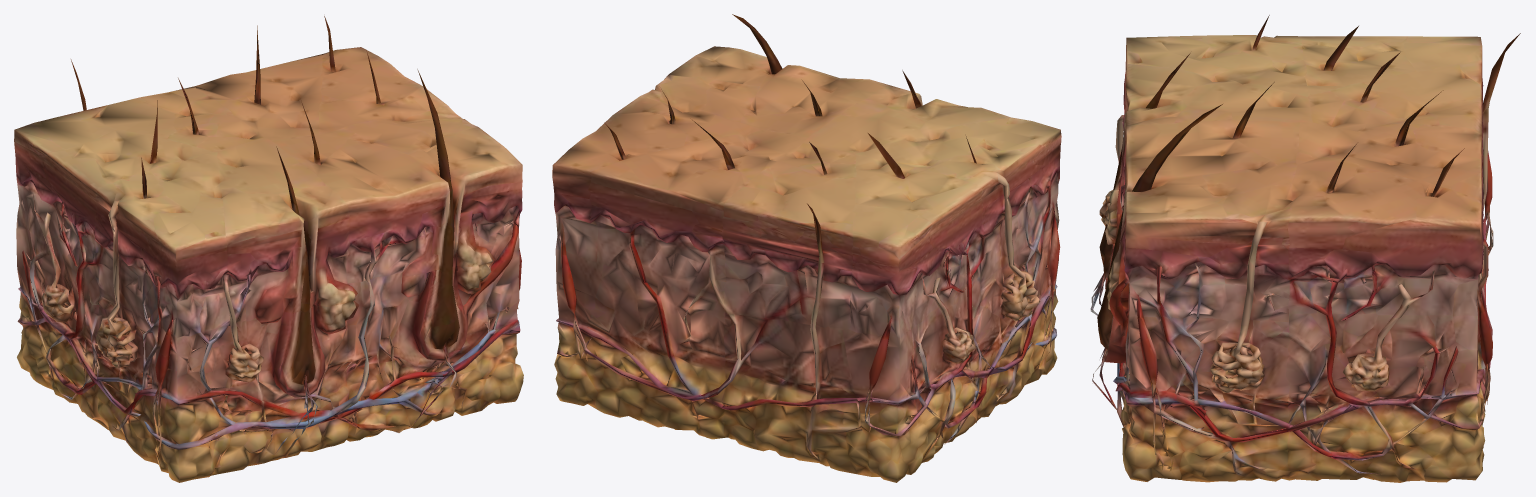
File: skin-lod1.glb
The picture shows the model from 3 angles, left to right: view 1: azimuth 30°, elevation 25°; view 2: azimuth 150°, elevation 25°; view 3: azimuth 270°, elevation 25°; orthographic projection. The views are drawn at different scales.
Parts seen in each view (by area): view 1: tripo_node_e5876caf-7f3d-4121-9468-4d7c567ae73f; view 2: tripo_node_e5876caf-7f3d-4121-9468-4d7c567ae73f; view 3: tripo_node_e5876caf-7f3d-4121-9468-4d7c567ae73f.
Boxes of the visible parts, <box> form: tripo_node_e5876caf-7f3d-4121-9468-4d7c567ae73f: <box>14,16,523,482</box>; tripo_node_e5876caf-7f3d-4121-9468-4d7c567ae73f: <box>552,14,1061,482</box>; tripo_node_e5876caf-7f3d-4121-9468-4d7c567ae73f: <box>1090,15,1520,482</box>.
Size of the model in its own units: 0.9787 by 0.7725 by 0.8478.
Materials: 1 (1 with a texture image).
